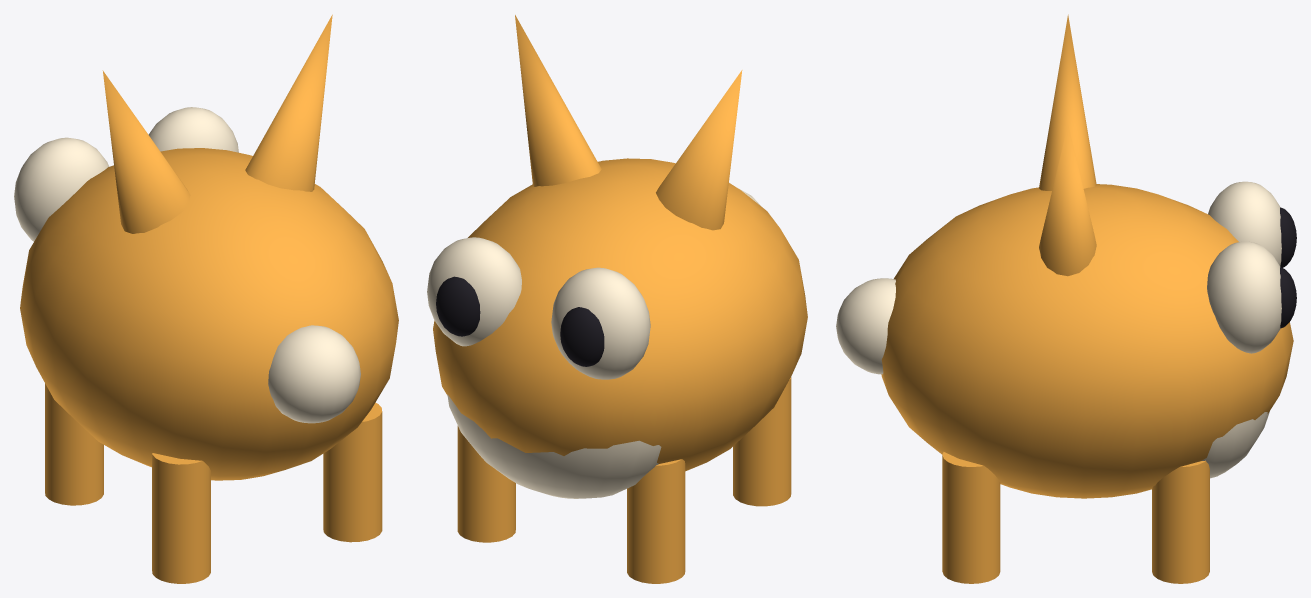
The model's file is fauna_critter.glb.
3 renders of one model, left to right at view 1: azimuth 30°, elevation 25°; view 2: azimuth 150°, elevation 25°; view 3: azimuth 270°, elevation 25°, orthographic. The views are drawn at different scales.
Parts seen in each view (by area): view 1: Body, Leg2, Tail, Ear-1, Ear1, Leg3, EyeWhite-1, Leg0, EyeWhite1; view 2: Body, BellyPatch, EyeWhite-1, Leg0, Ear-1, Ear1, EyeWhite1, Leg2, Leg1, Pupil-1, Pupil1; view 3: Body, Leg3, EyeWhite1, Leg1, Ear1, Ear-1, Tail, EyeWhite-1, BellyPatch, Pupil1, Pupil-1.
Boxes of the visible parts, x1=… form: Body: x1=20, y1=148, x2=398, y2=480; Leg2: x1=152, y1=453, x2=210, y2=583; Tail: x1=268, y1=325, x2=360, y2=423; Ear-1: x1=102, y1=70, x2=190, y2=233; Ear1: x1=245, y1=14, x2=332, y2=191; Leg3: x1=323, y1=402, x2=382, y2=542; EyeWhite-1: x1=14, y1=137, x2=108, y2=241; Leg0: x1=45, y1=383, x2=103, y2=505; EyeWhite1: x1=148, y1=107, x2=238, y2=152; Body: x1=433, y1=158, x2=807, y2=471; BellyPatch: x1=447, y1=394, x2=661, y2=498; EyeWhite-1: x1=551, y1=267, x2=650, y2=379; Leg0: x1=627, y1=459, x2=685, y2=583; Ear-1: x1=656, y1=70, x2=742, y2=230; Ear1: x1=515, y1=15, x2=601, y2=186; EyeWhite1: x1=427, y1=237, x2=521, y2=346; Leg2: x1=733, y1=377, x2=791, y2=506; Leg1: x1=457, y1=426, x2=515, y2=542; Pupil-1: x1=560, y1=307, x2=604, y2=366; Pupil1: x1=436, y1=276, x2=480, y2=336; Body: x1=881, y1=184, x2=1293, y2=498; Leg3: x1=942, y1=452, x2=1000, y2=583; EyeWhite1: x1=1207, y1=241, x2=1281, y2=353; Leg1: x1=1152, y1=460, x2=1209, y2=583; Ear1: x1=1039, y1=124, x2=1096, y2=276; Ear-1: x1=1039, y1=14, x2=1096, y2=190; Tail: x1=836, y1=278, x2=895, y2=374; EyeWhite-1: x1=1208, y1=181, x2=1281, y2=265; BellyPatch: x1=1202, y1=411, x2=1269, y2=478; Pupil1: x1=1280, y1=267, x2=1296, y2=328; Pupil-1: x1=1280, y1=207, x2=1296, y2=267.
Bounding box in the file's own units: 1.1 × 1.58 × 1.43.
